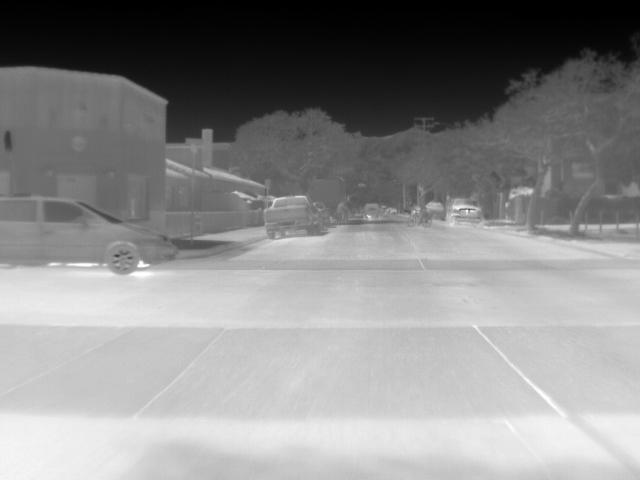car: (4, 192, 180, 278), (263, 191, 316, 240), (446, 196, 488, 230), (424, 199, 445, 220), (364, 202, 380, 218), (384, 206, 400, 218)
person: (410, 205, 424, 224)
